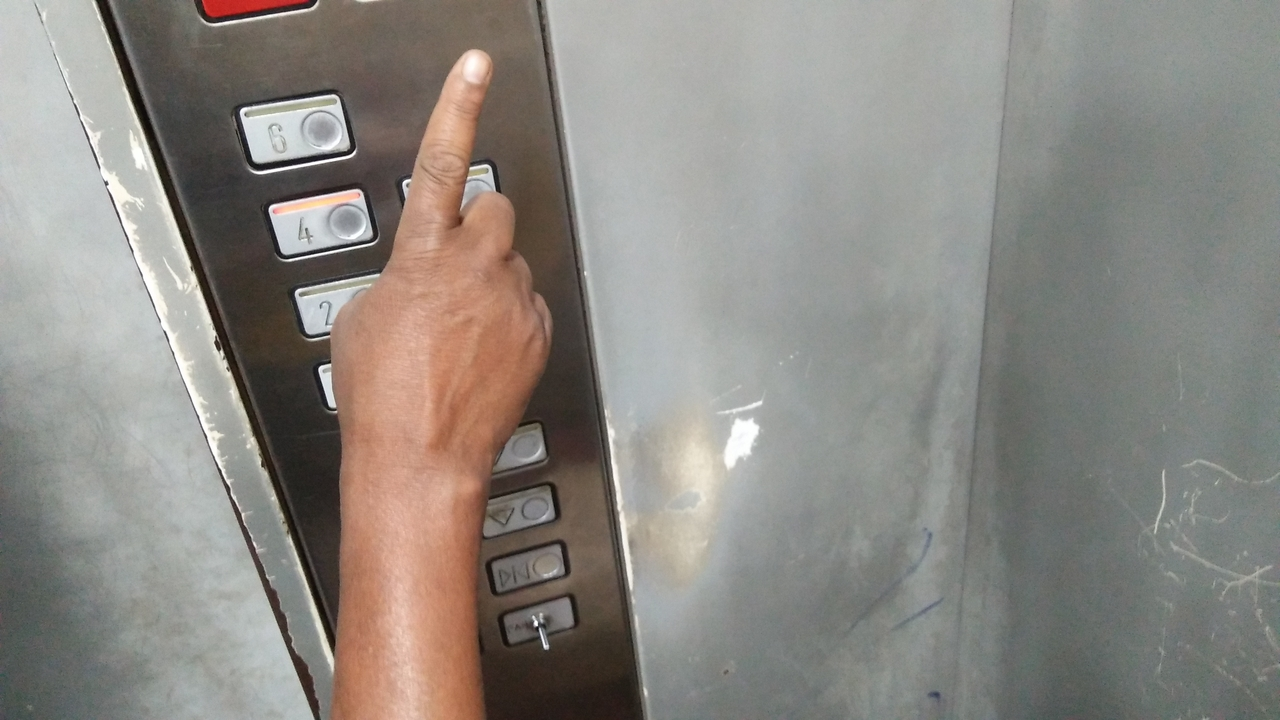fingertip: (442, 40, 498, 92)
